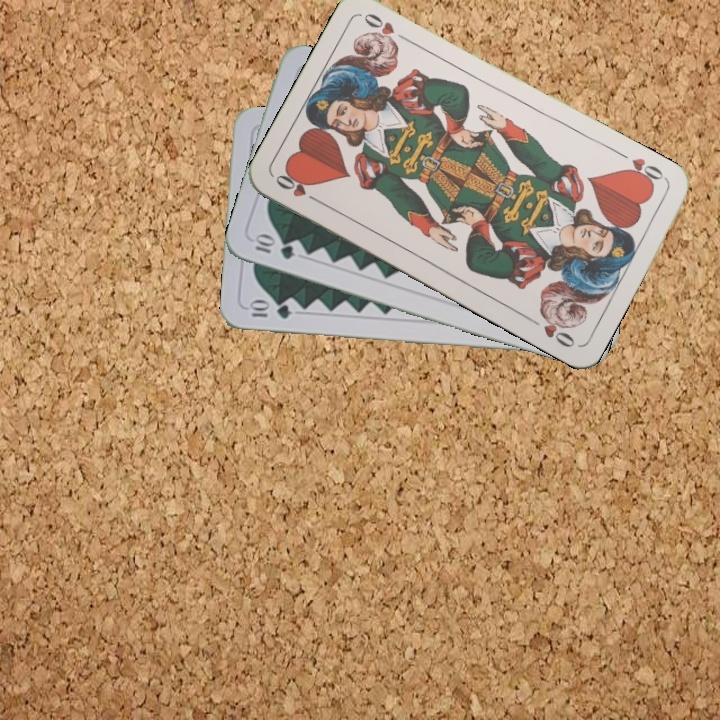G10: (251, 232, 297, 262), (245, 299, 293, 321)
HO: (271, 169, 325, 207), (618, 153, 669, 190)
